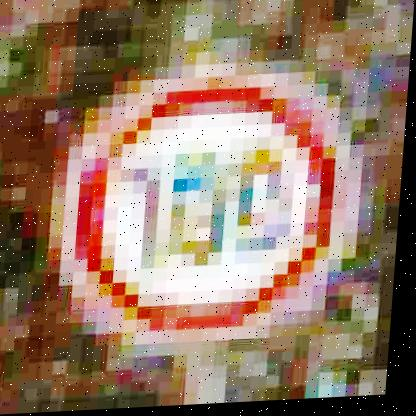Speed Limit -100-: (59, 68, 364, 353)
